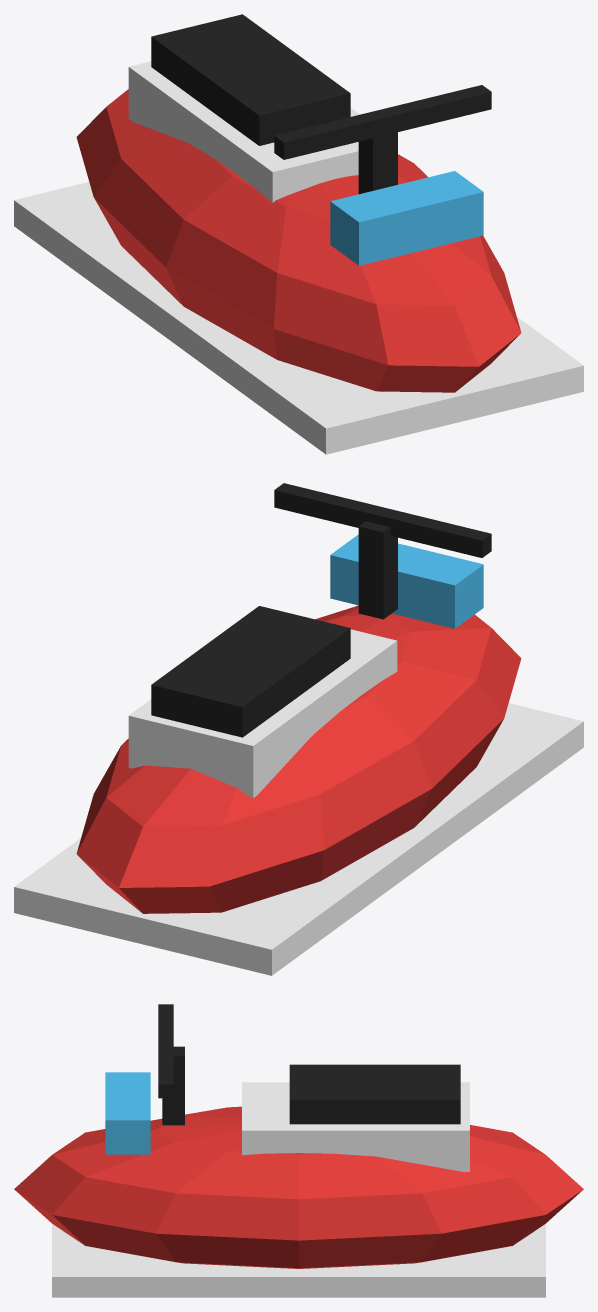
File: vattenskoter.glb
3 renders of one model, top to bottom at view 1: azimuth 30°, elevation 25°; view 2: azimuth 150°, elevation 25°; view 3: azimuth 270°, elevation 25°, orthographic. The views are drawn at different scales.
Visible parts, largest first — view 1: vattenskoter; view 2: vattenskoter; view 3: vattenskoter.
Part boxes in pixels (<box>): vattenskoter: <box>14,14,583,454</box>; vattenskoter: <box>14,483,583,975</box>; vattenskoter: <box>14,1004,583,1297</box>.
Size of the model in its own units: 0.64 by 0.6201 by 1.5.
